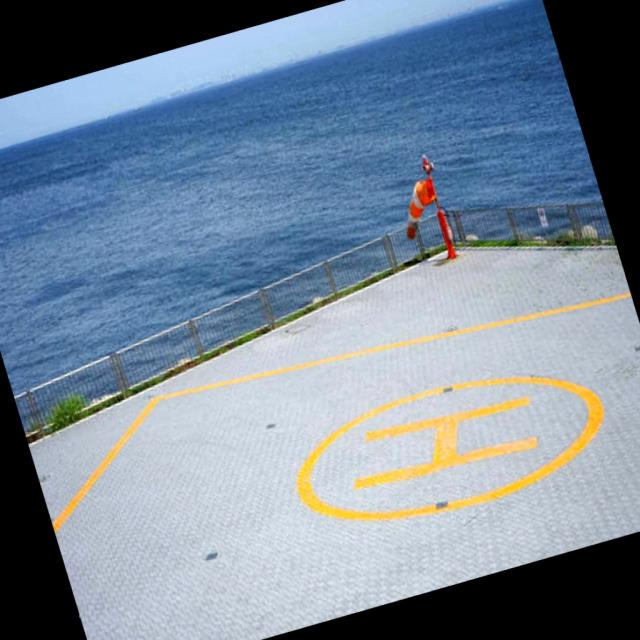helipad: (290, 368, 610, 528)
